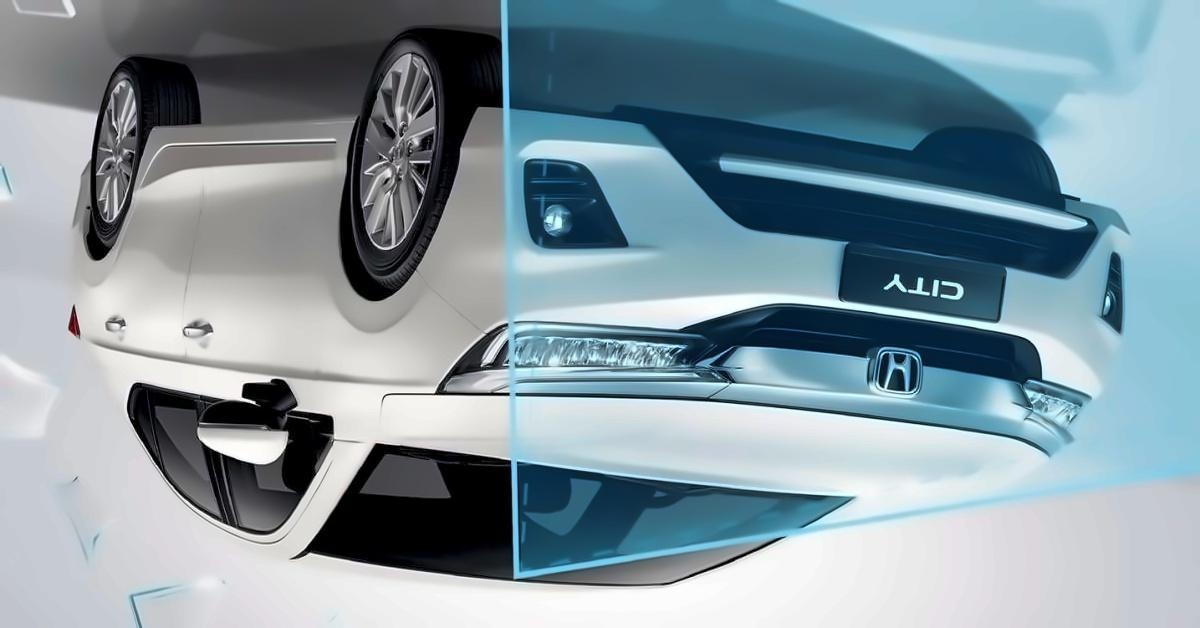Car hood: (376, 387, 1093, 501)
Fender - -F-L-: (274, 223, 480, 465)
Fender - -R-L-: (48, 245, 160, 372)
Front bumper: (412, 98, 1172, 422)
Headlight - -L-: (432, 320, 731, 400)
Headlight - -R-: (1021, 373, 1092, 442)
Passenger-s door - -F-L-: (181, 98, 365, 559)
Passenger-s door - -R-L-: (103, 97, 224, 542)
Side bumper - -L-: (143, 94, 368, 233)
Side mirror - -L-: (194, 378, 326, 466)
